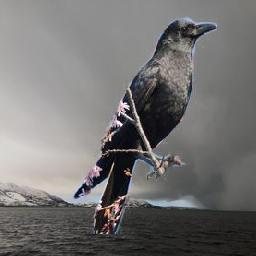Crow: (73, 16, 218, 234)
